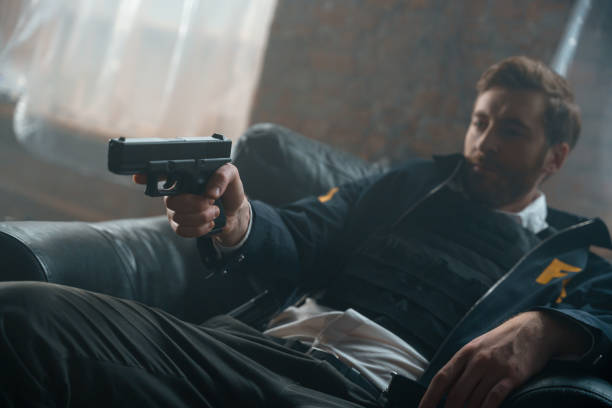gun: (107, 132, 238, 236)
